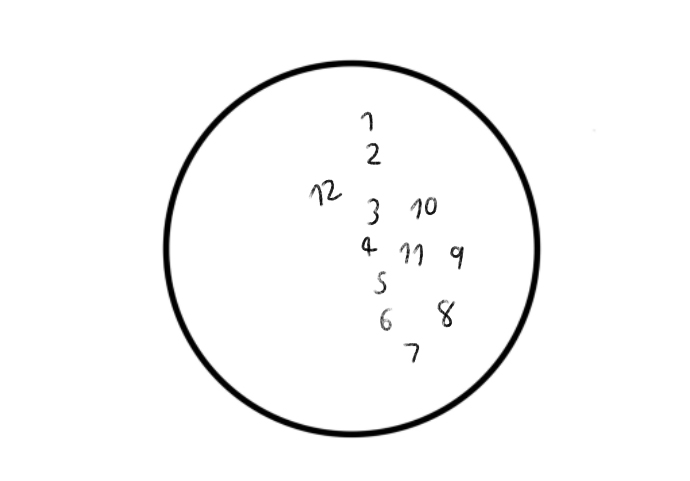eight: (437, 296, 455, 333)
eleven: (398, 237, 425, 269)
five: (371, 268, 388, 296)
four: (360, 235, 379, 259)
nine: (450, 244, 466, 273)
one: (359, 106, 375, 136)
seven: (403, 339, 420, 364)
six: (379, 304, 393, 333)
ten: (407, 194, 439, 222)
three: (364, 191, 382, 228)
twelve: (309, 174, 345, 207)
two: (365, 140, 381, 168)
